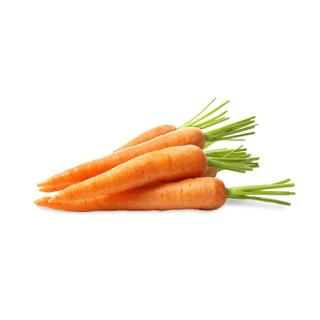carrot: (38, 126, 206, 189), (50, 144, 205, 202), (33, 177, 233, 215)
